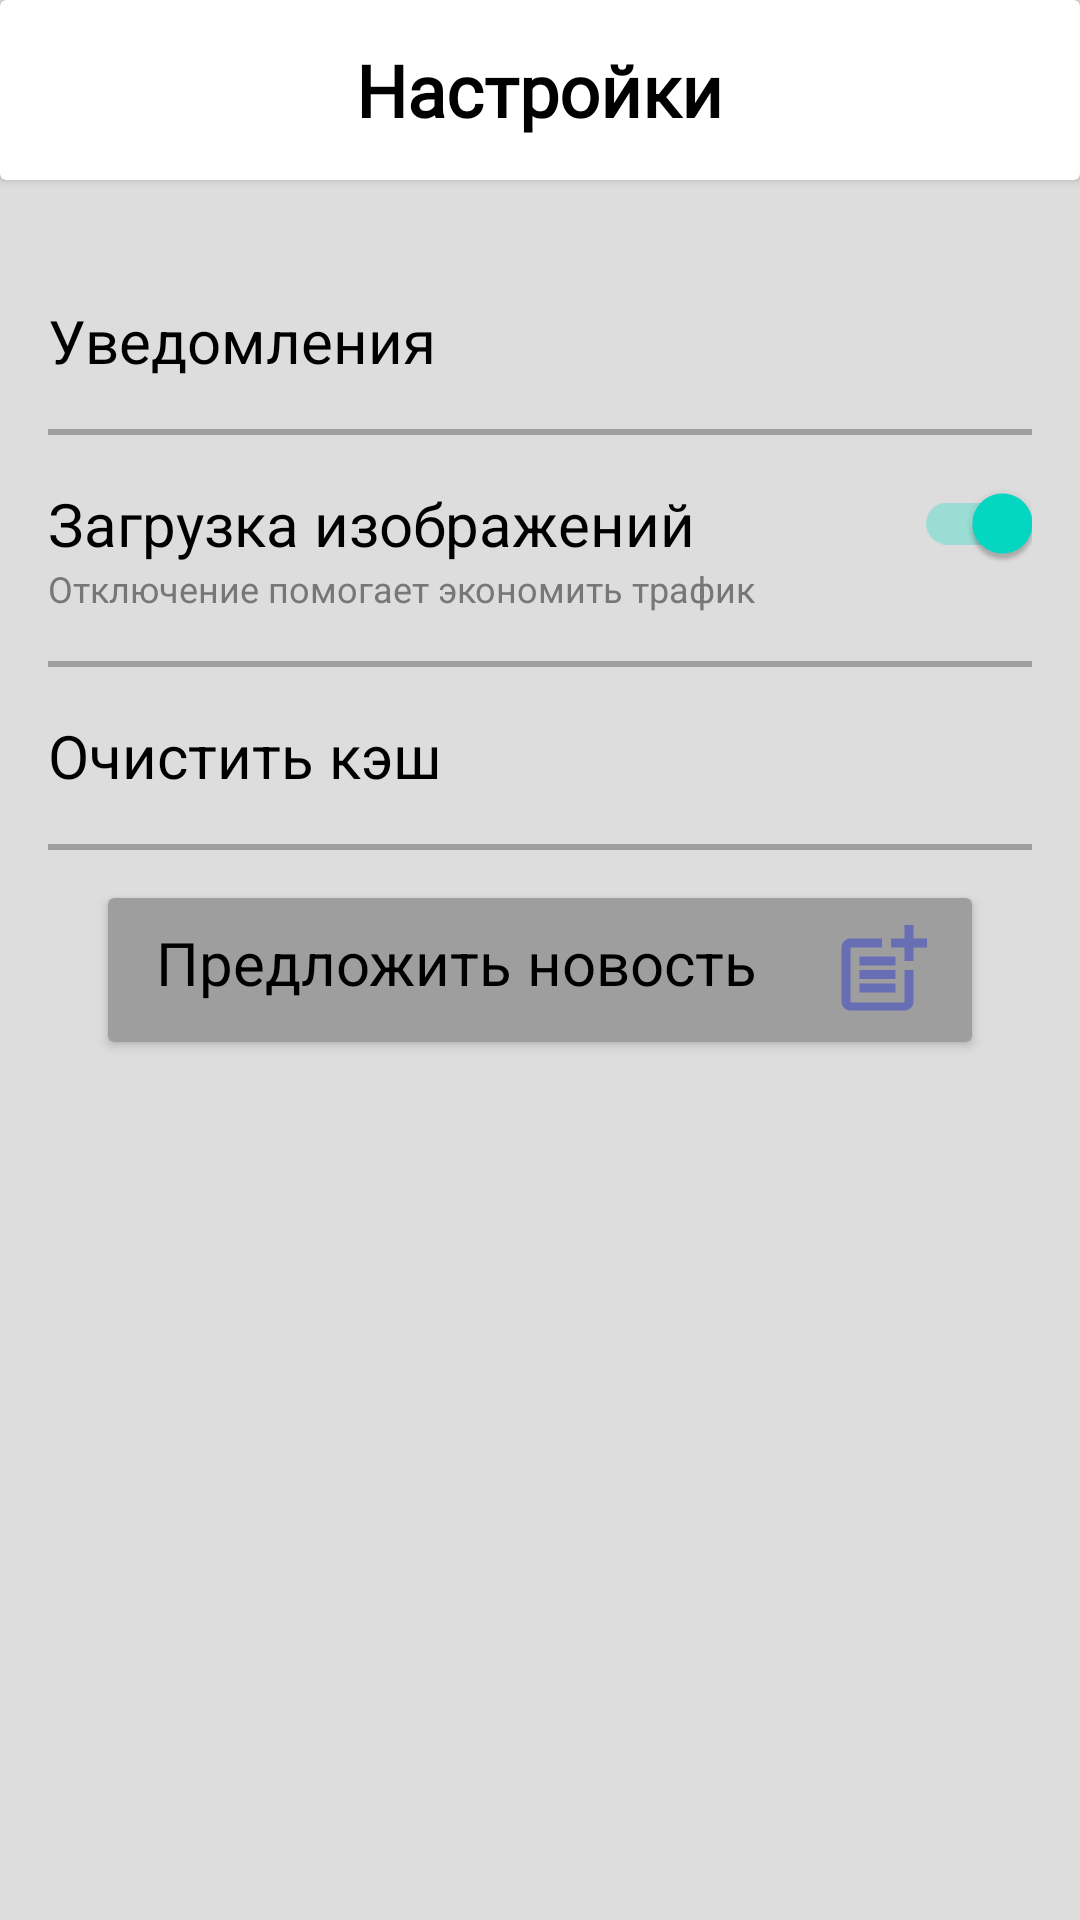

Named icons in this screenshot (1080 x 1920) and their centers, (x,y):
offer post: (884,968)
